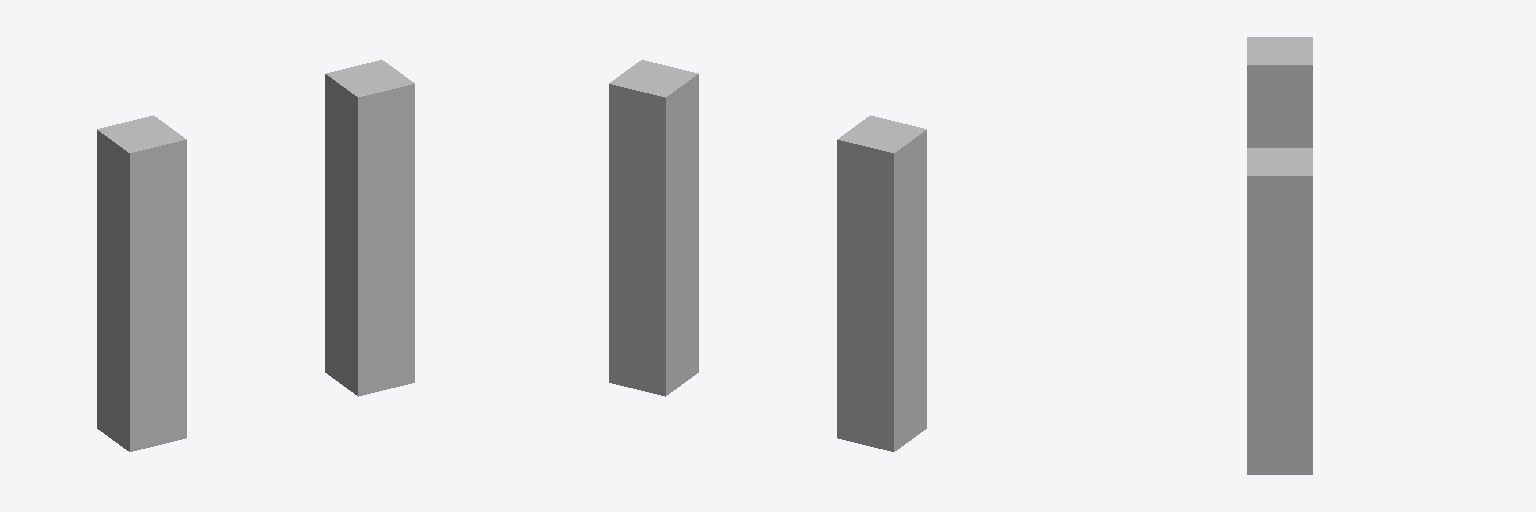
File: beam_11.obj
3 renders of one model, left to right at view 1: azimuth 30°, elevation 25°; view 2: azimuth 150°, elevation 25°; view 3: azimuth 270°, elevation 25°, orthographic.
Visible parts, largest first — view 1: beam_11_Cube.071; view 2: beam_11_Cube.071; view 3: beam_11_Cube.071.
Boxes of the visible parts, <box> form: beam_11_Cube.071: <box>97,60,414,451</box>; beam_11_Cube.071: <box>609,60,926,451</box>; beam_11_Cube.071: <box>1247,37,1312,474</box>.
Bounding box in the file's own units: 1.25 × 1.25 × 0.25.